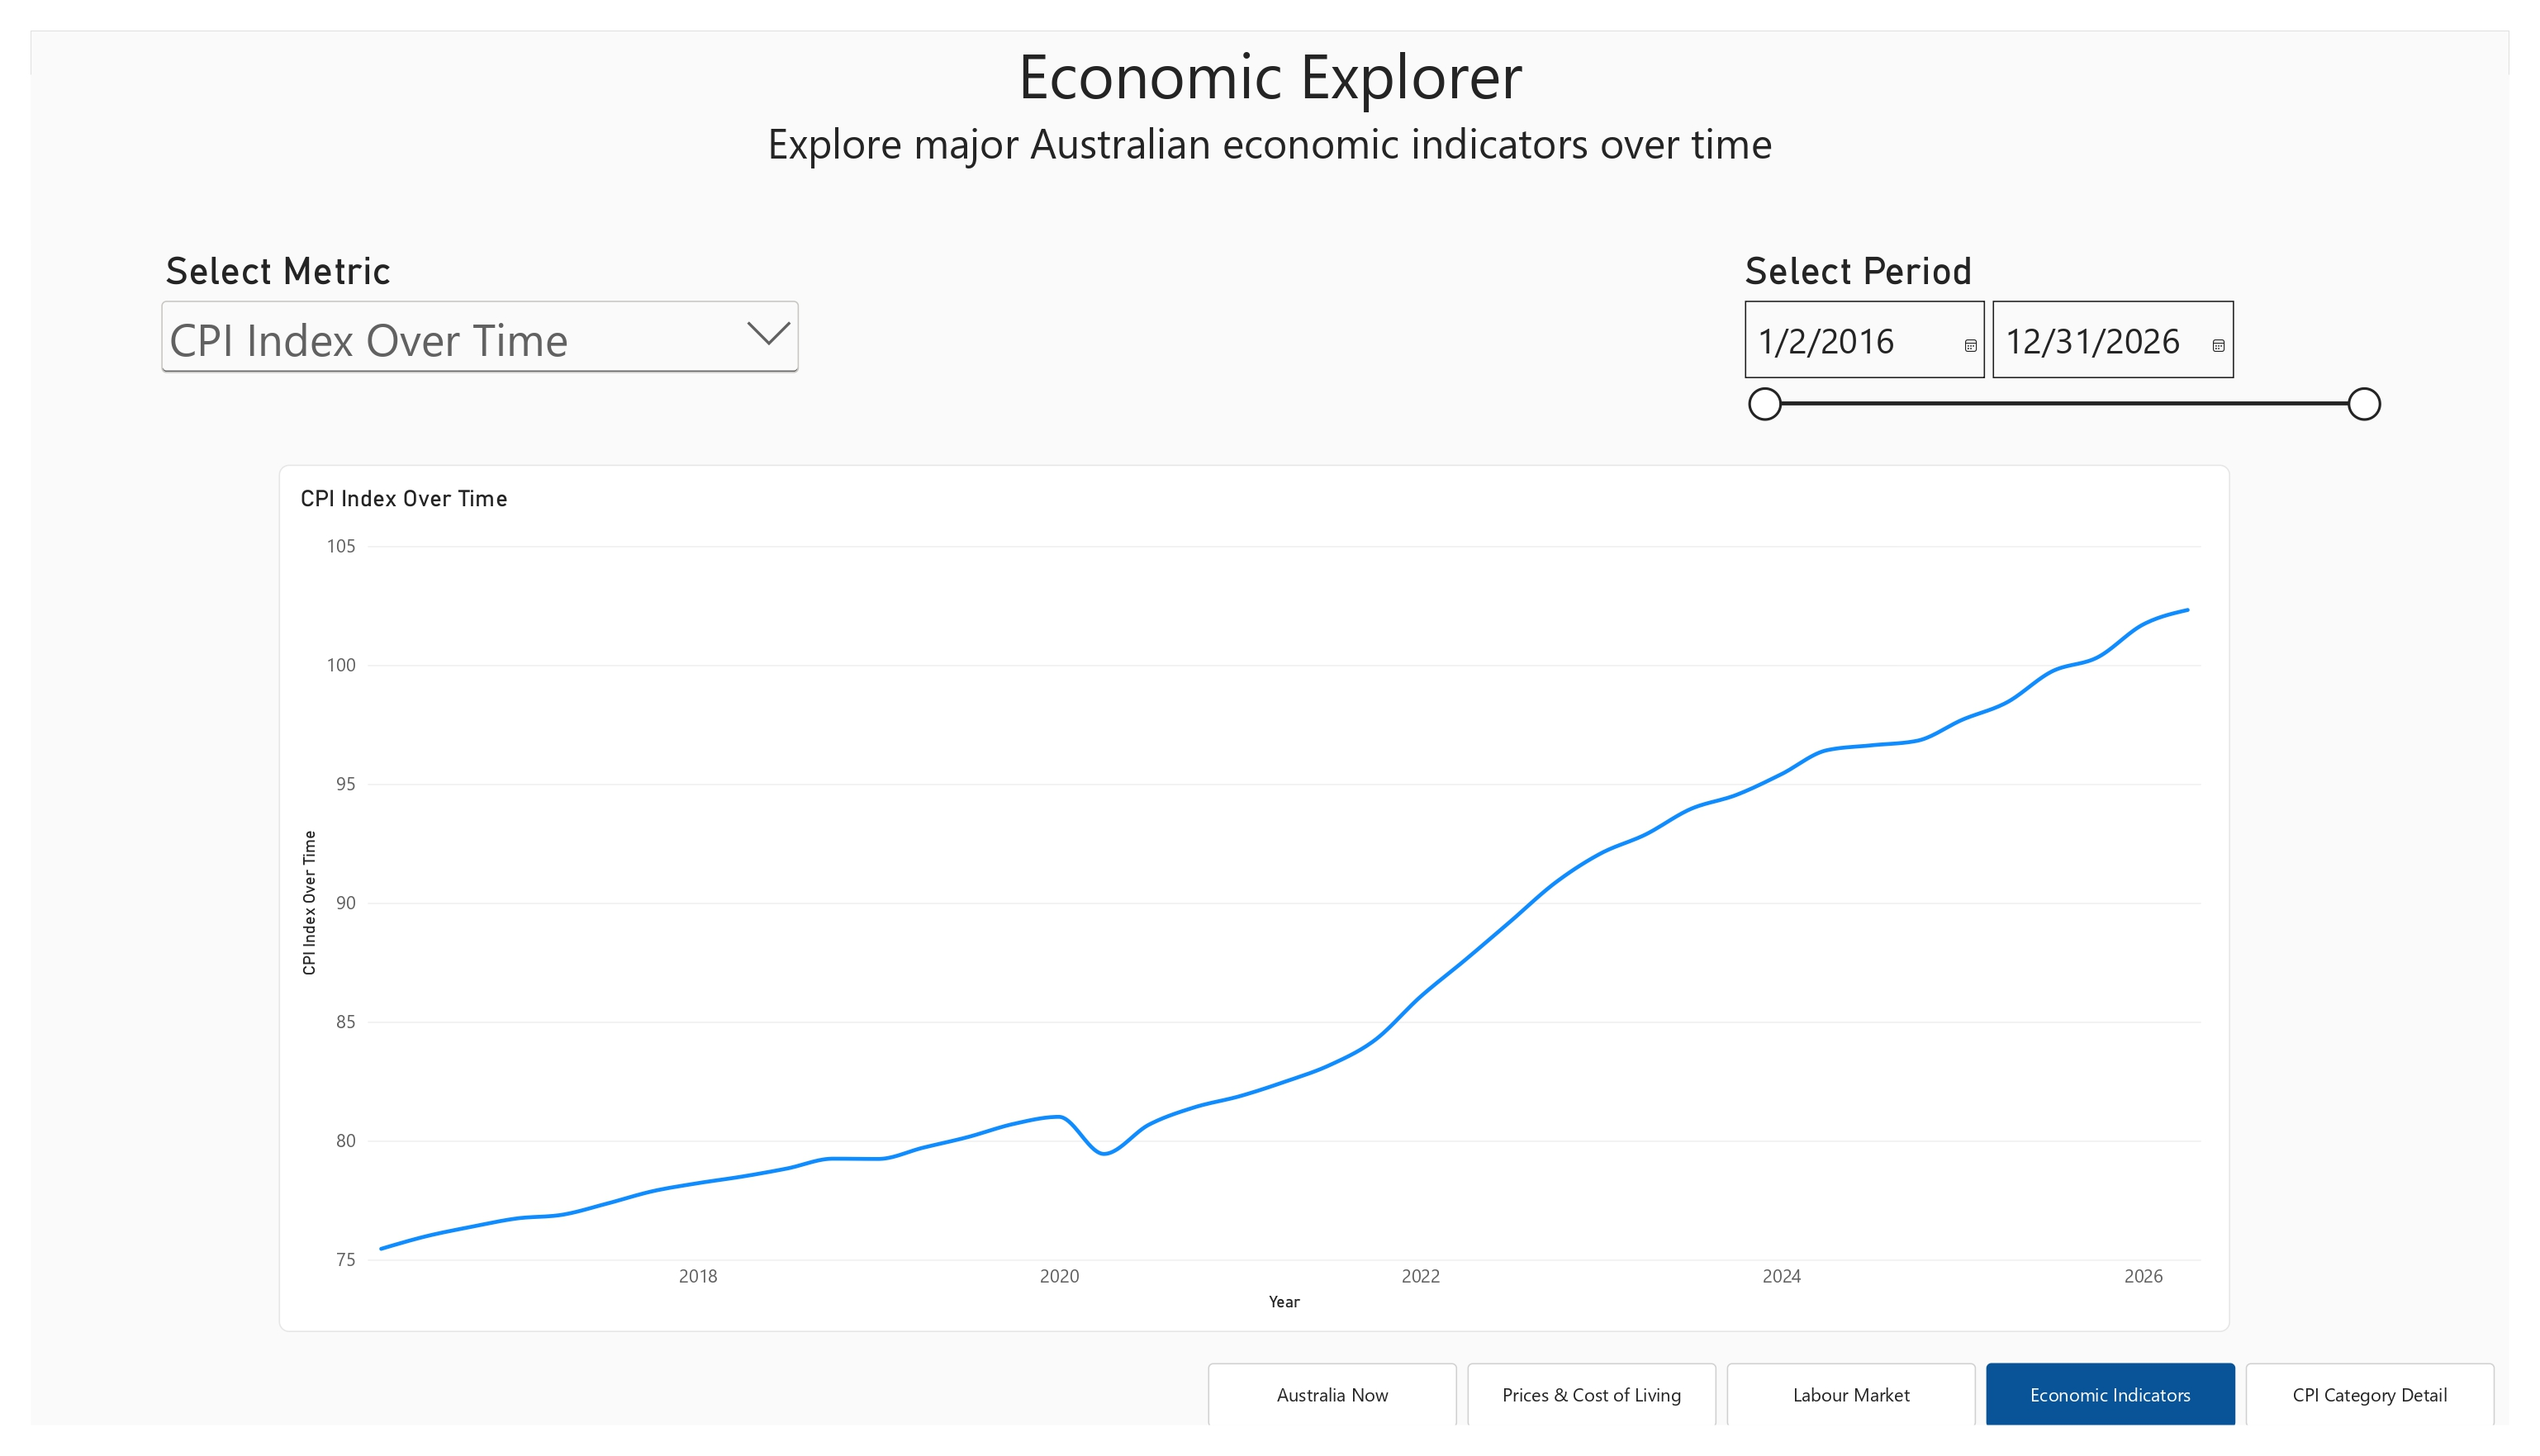

Layout of this report page (visuals, bound fields, positions):
{"tool":"powerbi","page":{"name":"Economic Indicators","canvas":[1920,1080],"ordinal":3},"visuals":[{"type":"slicer","fields":{"Values":["Economic Metric 2.Economic Metric"]},"box":[96,168,504,168],"z":0},{"type":"lineChart","fields":{"Category":["DimDate.Date"],"Y":["CPI_from2016.CPI Quarterly Index"]},"box":[192,336,1512,672],"z":1000},{"type":"textbox","box":[0,0,1920,168],"z":2000},{"type":"slicer","title":"Select period","fields":{"Values":["DimDate.Date"]},"box":[1320,168,504,240],"z":3000},{"type":"pageNavigator","box":[912,1032,1000,50],"z":4000}]}

Visuals, with their boxes on the page's 1920x1080 design canvas (x1, y1, x2, y2). These are canvas units, not pixel positions in the 2540x1456 screenshot, which may show the page scaled, cropped or inside an application window:
slicer - Economic Metric 2.Economic Metric: 96,168,600,336
lineChart - DimDate.Date x CPI_from2016.CPI Quarterly Index: 192,336,1704,1008
textbox: 0,0,1920,168
"Select period" slicer: 1320,168,1824,408
pageNavigator: 912,1032,1912,1082
